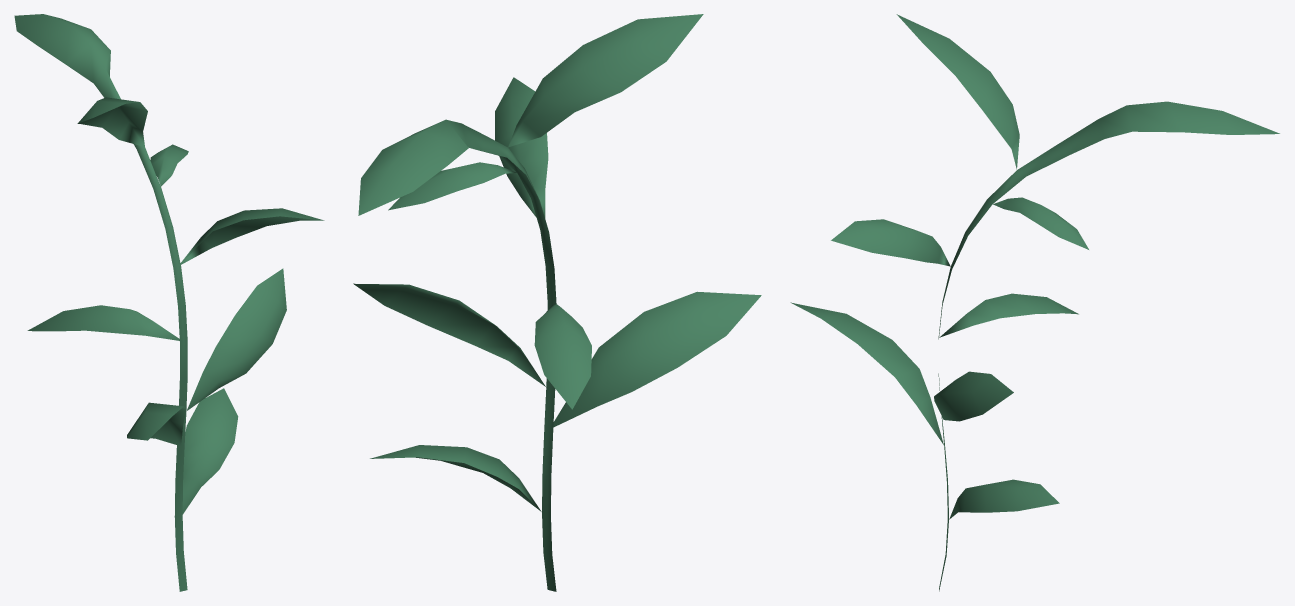
File: Bean-Plant-S00A.fbx
3 views of the same model, side by side, from view 1: azimuth 30°, elevation 25°; view 2: azimuth 150°, elevation 25°; view 3: azimuth 270°, elevation 25° (orthographic). The views are drawn at different scales.
Parts seen in each view (by area): view 1: Bean-Plant-S00A; view 2: Bean-Plant-S00A; view 3: Bean-Plant-S00A.
Part boxes in pixels (x1,y1,x2,y2): Bean-Plant-S00A: (14, 14, 324, 591); Bean-Plant-S00A: (353, 14, 761, 591); Bean-Plant-S00A: (790, 14, 1279, 591).
Bounding box in the file's own units: 81.49 × 162 × 138.
